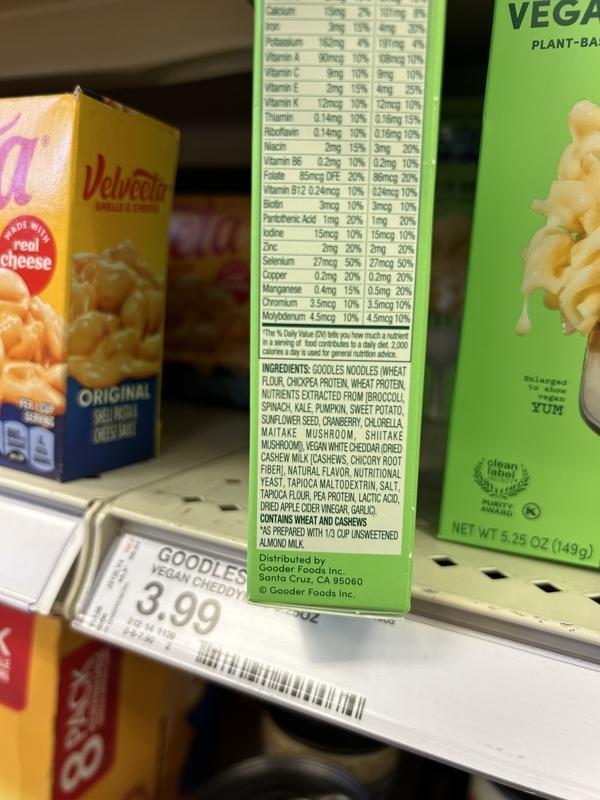ingredients: (259, 362, 406, 516)
